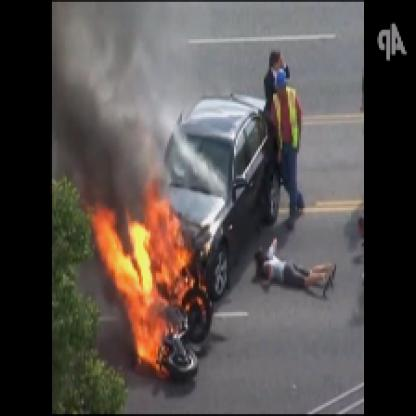Fire: (91, 191, 208, 383)
Smoke: (54, 2, 174, 173)
